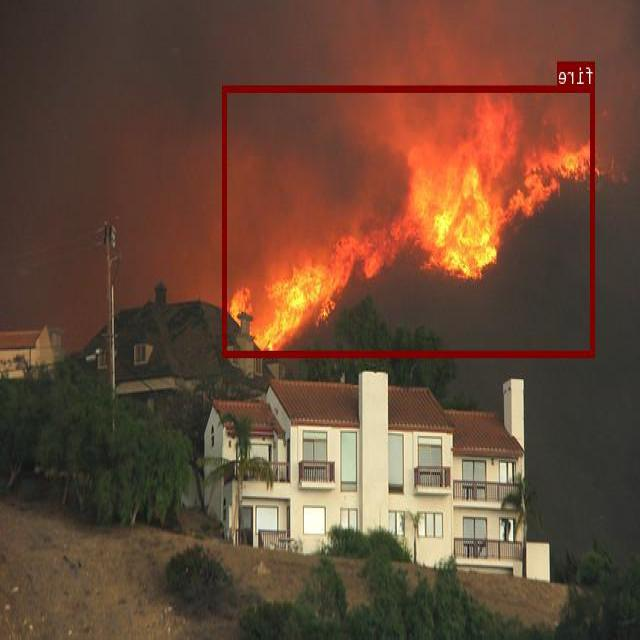fire: (224, 85, 596, 356)
